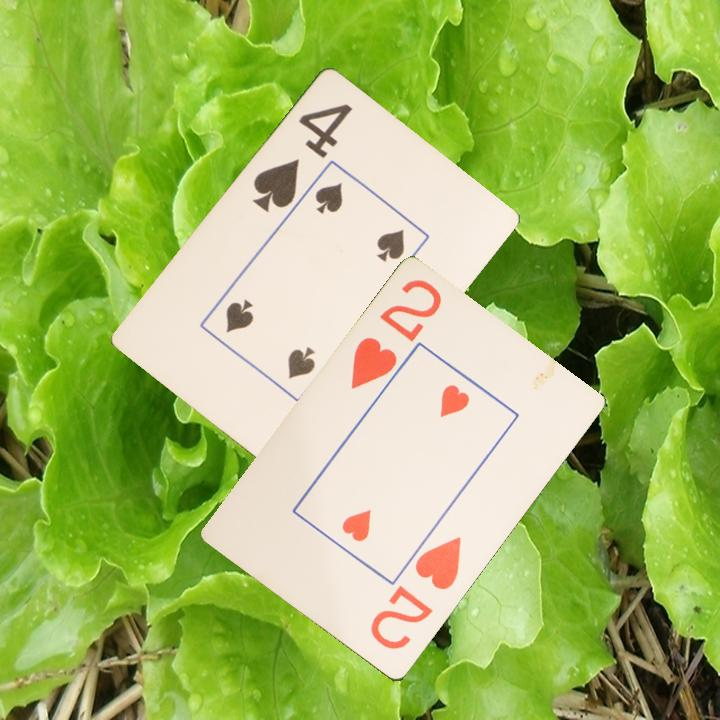2h: (366, 533, 465, 654), (347, 276, 445, 393)
4s: (249, 100, 356, 217)
